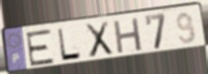7: (143, 12, 168, 52)
9: (175, 11, 198, 45)
E: (24, 28, 56, 68)
H: (112, 16, 144, 56)
L: (56, 27, 84, 62)
X: (84, 20, 114, 60)
